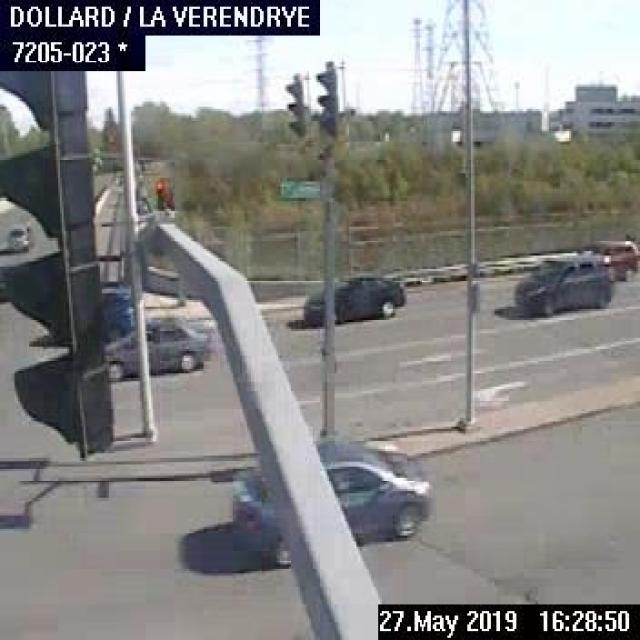vehicle: (226, 438, 430, 564), (102, 314, 213, 379), (511, 254, 606, 316), (297, 270, 406, 324), (580, 235, 638, 281), (6, 220, 34, 251)
